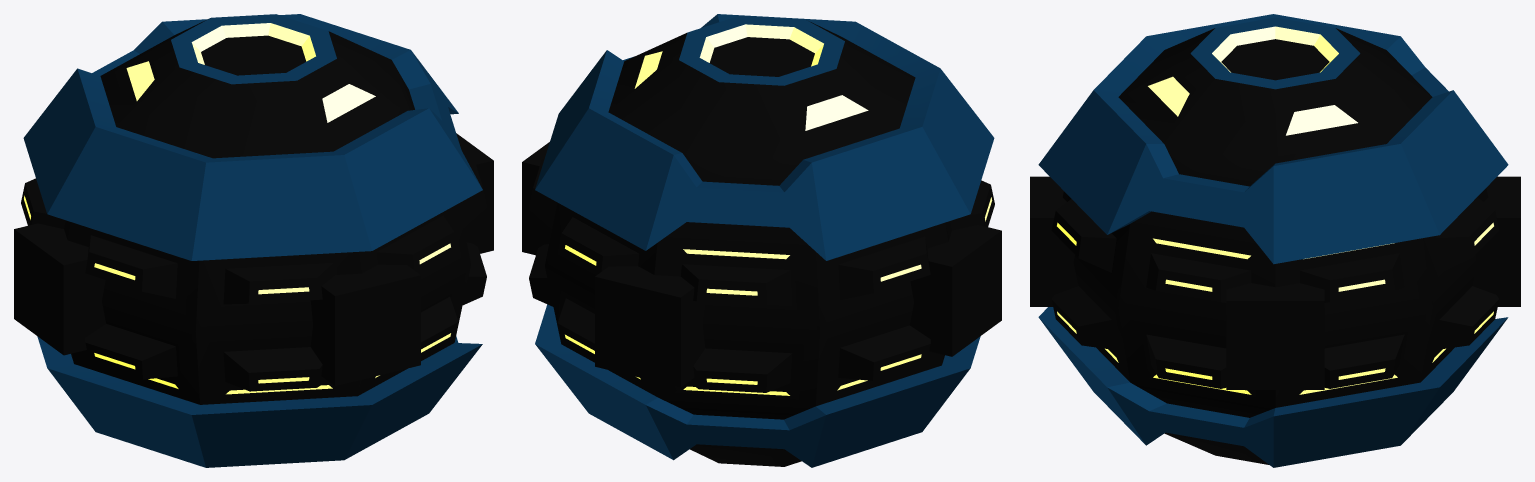
The model's file is 01_civ_1x1_04.glb.
3 renders of one model, left to right at view 1: azimuth 30°, elevation 25°; view 2: azimuth 150°, elevation 25°; view 3: azimuth 270°, elevation 25°, orthographic.
Parts seen in each view (by area): view 1: 01_civ_1x1_04; view 2: 01_civ_1x1_04; view 3: 01_civ_1x1_04.
Part boxes in pixels (left/top/right/bottom): 01_civ_1x1_04: left=14, top=14, right=493, bottom=467; 01_civ_1x1_04: left=522, top=14, right=1001, bottom=467; 01_civ_1x1_04: left=1030, top=14, right=1520, bottom=467.
Size of the model in its own units: 1 by 0.847 by 1.
